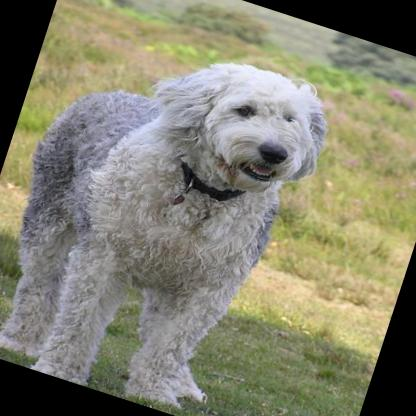Old_English_sheepdog: (0, 8, 342, 416)
